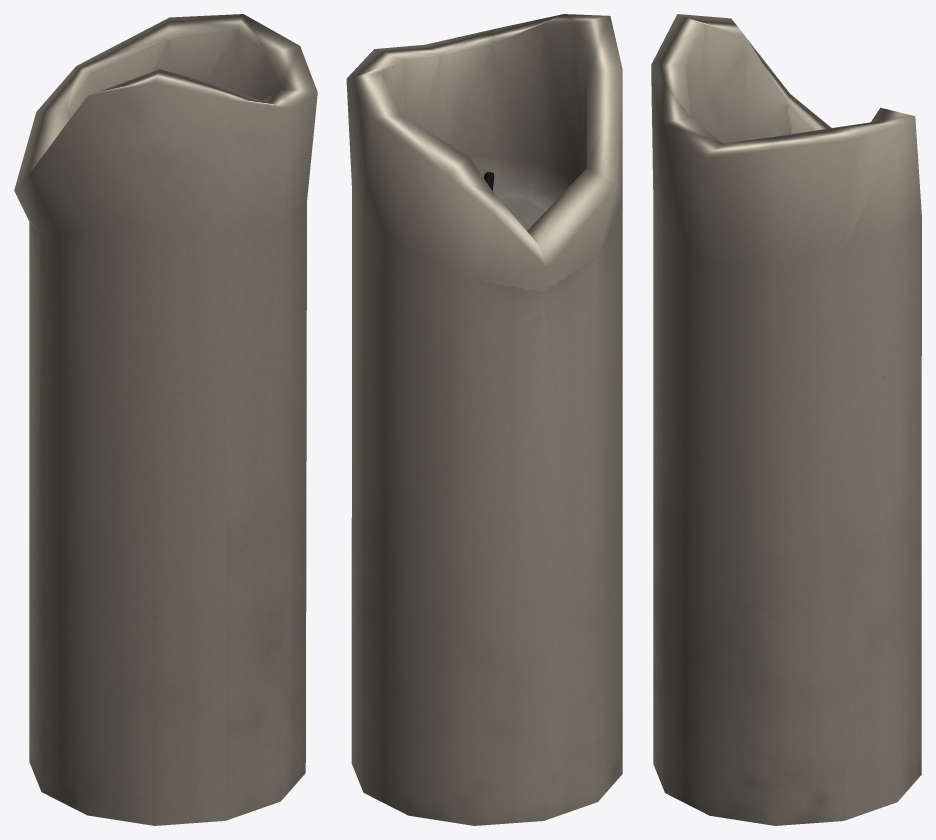
Rendered from candleSmall.fbx.
3 renders of one model, left to right at view 1: azimuth 30°, elevation 25°; view 2: azimuth 150°, elevation 25°; view 3: azimuth 270°, elevation 25°, orthographic. The views are drawn at different scales.
Visible parts, largest first — view 1: candleSmall; view 2: candleSmall; view 3: candleSmall.
Part boxes in pixels (bbox=[...]): candleSmall: bbox=[14, 14, 317, 825]; candleSmall: bbox=[346, 14, 622, 825]; candleSmall: bbox=[651, 14, 921, 825].
Bounding box in the file's own units: 0.0733 × 0.2028 × 0.0689.
